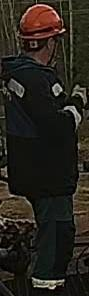gloves: (73, 83, 88, 112)
helmet: (17, 3, 66, 39)
vest: (0, 54, 78, 197)
